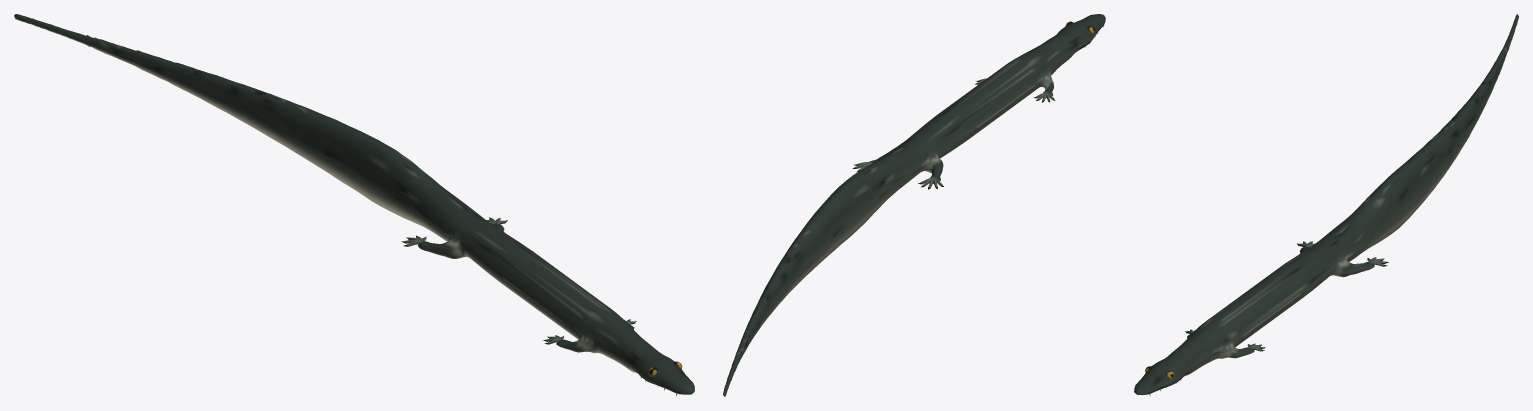
Rendered from Pleurosaurus.fbx.
3 renders of one model, left to right at view 1: azimuth 30°, elevation 25°; view 2: azimuth 150°, elevation 25°; view 3: azimuth 330°, elevation 25°, orthographic. The views are drawn at different scales.
Visible parts, largest first — view 1: Pleurosaurus; view 2: Pleurosaurus; view 3: Pleurosaurus.
Part boxes in pixels (x1,y1,x2,y2): Pleurosaurus: (14,14,694,396); Pleurosaurus: (723,14,1105,396); Pleurosaurus: (1134,14,1518,396).
Bounding box in the file's own units: 0.2542 × 0.0842 × 1.43.
